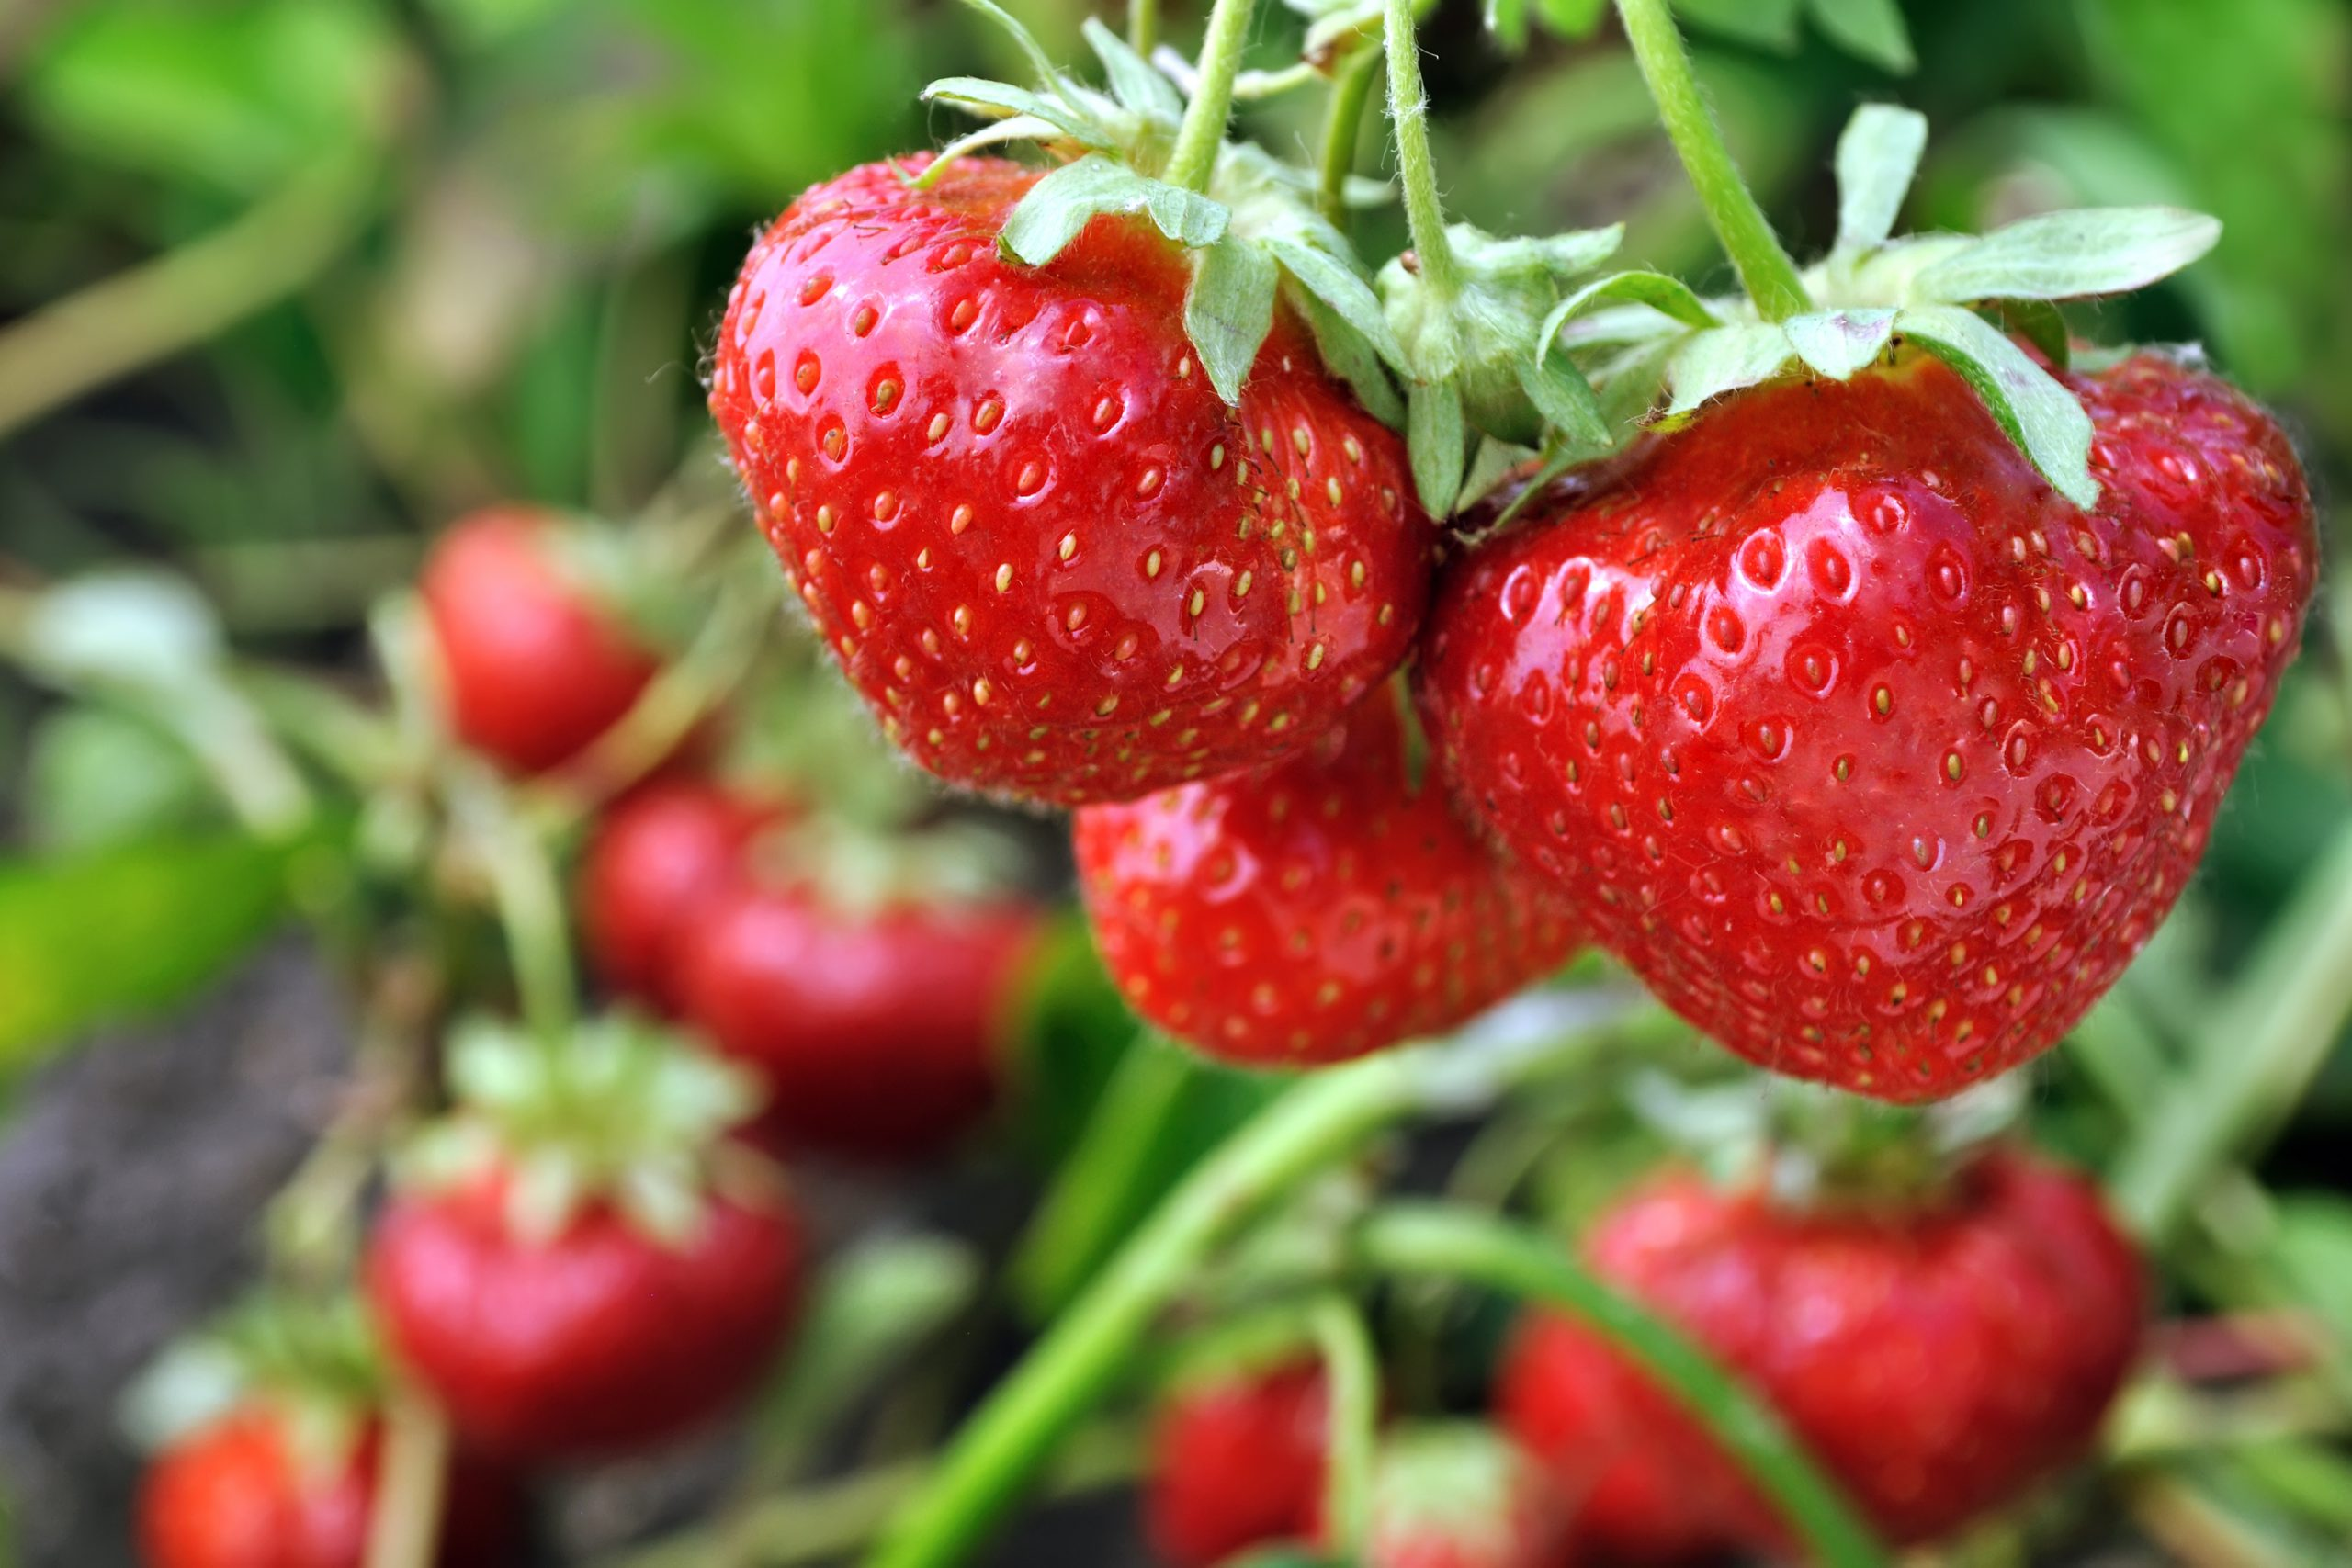ripe: (1423, 303, 2301, 1101), (707, 129, 1431, 814), (1078, 607, 1696, 1092), (1643, 1111, 2168, 1535), (359, 1045, 803, 1470), (688, 814, 1074, 1174), (1479, 1150, 1760, 1543), (408, 488, 689, 808), (1146, 1290, 1384, 1559), (129, 1367, 394, 1568), (556, 817, 784, 1041)
